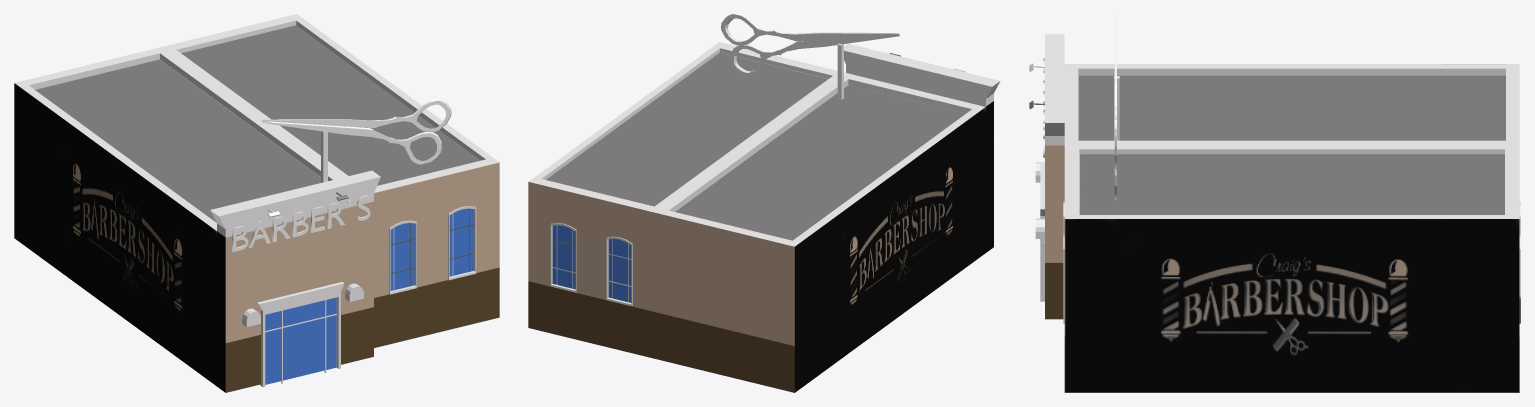
Rendered from Barbers.fbx.
3 views of the same model, side by side, from view 1: azimuth 30°, elevation 25°; view 2: azimuth 150°, elevation 25°; view 3: azimuth 270°, elevation 25° (orthographic). The views are drawn at different scales.
Parts seen in each view (by area): view 1: Cube.016, Plane, Text.005, Cube.017, Cylinder, Cube.015; view 2: Cube.016, Plane, Cube.014; view 3: Cube.016, Plane.
Boxes of the visible parts, x1,y1,x2,y2 form: Cube.016: [14, 14, 499, 392]; Plane: [261, 98, 451, 164]; Text.005: [232, 195, 370, 251]; Cube.017: [389, 206, 476, 294]; Cylinder: [242, 283, 363, 327]; Cube.015: [265, 300, 336, 383]; Cube.016: [528, 42, 1000, 392]; Plane: [720, 14, 899, 75]; Cube.014: [550, 223, 632, 306]; Cube.016: [1040, 34, 1519, 392]; Plane: [1114, 14, 1116, 200].
Bounding box in the file's own units: 477 × 374 × 625.
